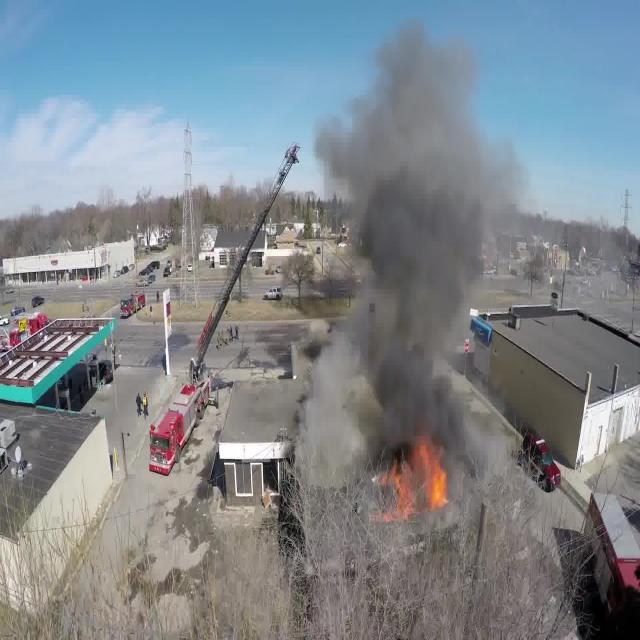fire: (385, 447, 449, 518)
smoke: (314, 58, 493, 433)
